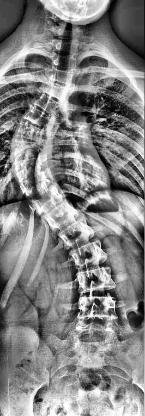Vertebrae: (58, 219, 96, 251), (74, 267, 118, 293), (70, 241, 106, 269), (18, 119, 56, 145), (44, 202, 80, 229), (78, 297, 120, 320), (32, 184, 64, 214), (23, 172, 54, 198), (24, 105, 54, 131), (12, 139, 50, 159), (34, 93, 60, 117), (11, 156, 48, 172), (46, 80, 70, 104), (54, 54, 82, 70), (52, 67, 76, 84), (56, 41, 82, 55)
